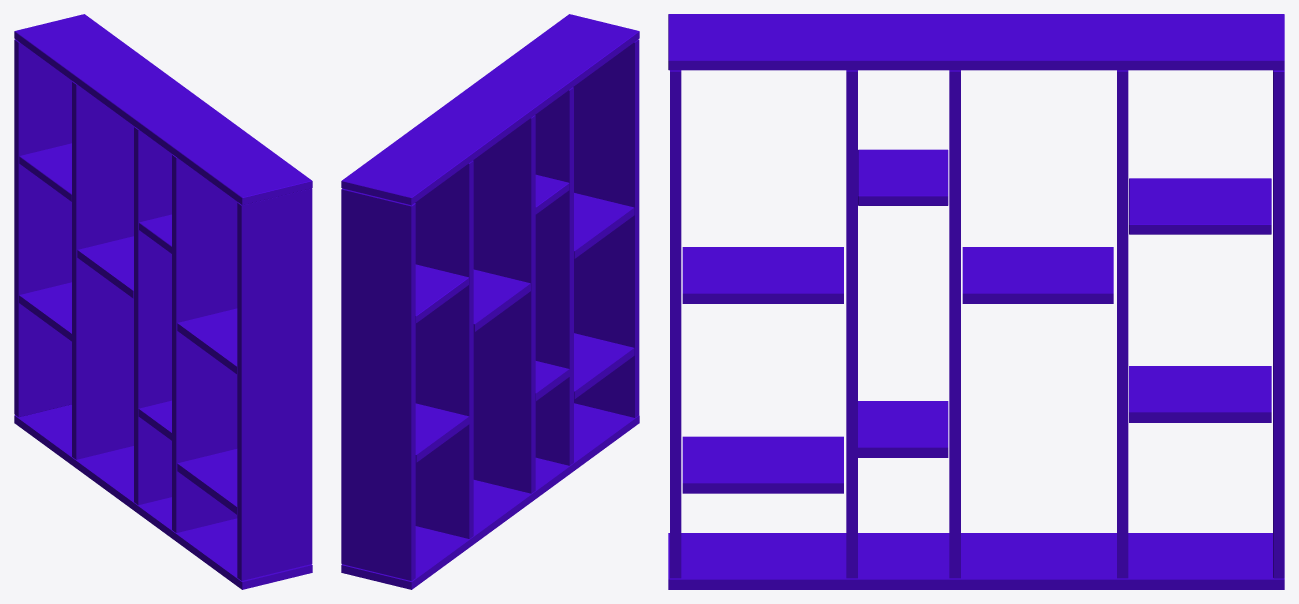
File: Bookcase.fbx
3 renders of one model, left to right at view 1: azimuth 30°, elevation 25°; view 2: azimuth 150°, elevation 25°; view 3: azimuth 270°, elevation 25°, orthographic. The views are drawn at different scales.
Visible parts, largest first — view 1: Bookcase; view 2: Bookcase; view 3: Bookcase.
Part boxes in pixels (left/top/right/bottom): Bookcase: left=14, top=14, right=312, bottom=589; Bookcase: left=341, top=14, right=639, bottom=589; Bookcase: left=668, top=14, right=1284, bottom=589.
Bounding box in the file's own units: 39.39 × 209 × 221.
